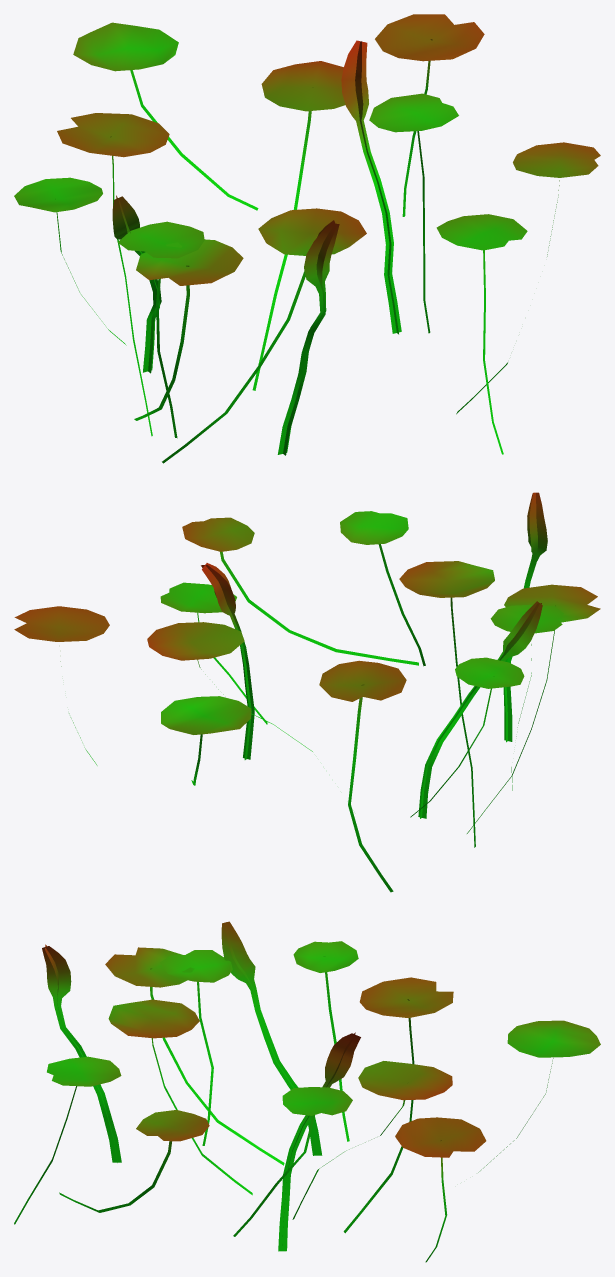
The model's file is Var3_LOD2.fbx.
3 views of the same model, one above another, from view 1: azimuth 30°, elevation 25°; view 2: azimuth 150°, elevation 25°; view 3: azimuth 270°, elevation 25° (orthographic). The views are drawn at different scales.
Visible parts, largest first — view 1: _641d_Var3_LOD2; view 2: _641d_Var3_LOD2; view 3: _641d_Var3_LOD2.
Part boxes in pixels (x1,y1,x2,y2): _641d_Var3_LOD2: (14,14,600,463); _641d_Var3_LOD2: (14,492,600,892); _641d_Var3_LOD2: (14,921,600,1262).
Bounding box in the file's own units: 133 × 82.99 × 152.
